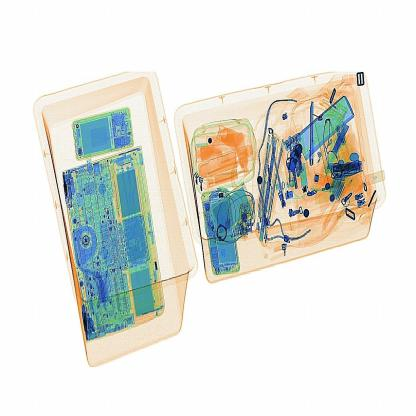pliers: (302, 96, 326, 176)
